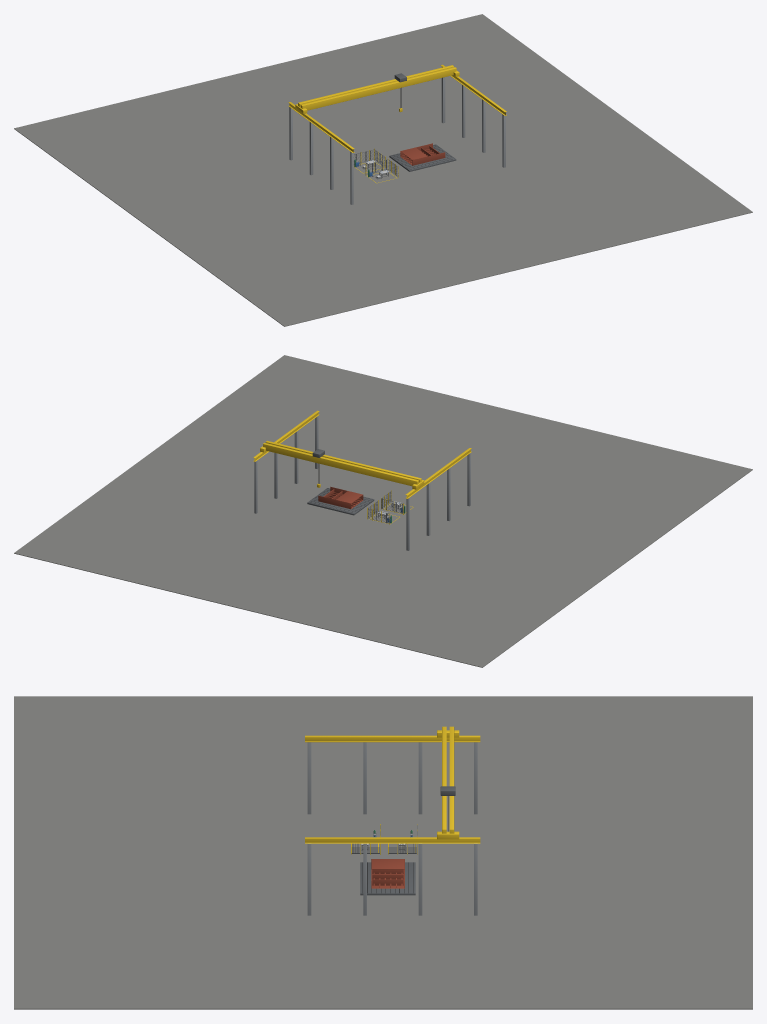
The model's file is shipyard.glb.
3 renders of one model, top to bottom at view 1: azimuth 30°, elevation 25°; view 2: azimuth 150°, elevation 25°; view 3: azimuth 270°, elevation 25°, orthographic. The views are drawn at different scales.
Parts seen in each view (by area): view 1: background:shipyard; view 2: background:shipyard; view 3: background:shipyard.
Boxes of the visible parts, left/top/right/bottom form: background:shipyard: left=14, top=14, right=752, bottom=326; background:shipyard: left=14, top=355, right=752, bottom=667; background:shipyard: left=14, top=696, right=752, bottom=1009.
Size of the model in its own units: 80 by 11 by 80.
